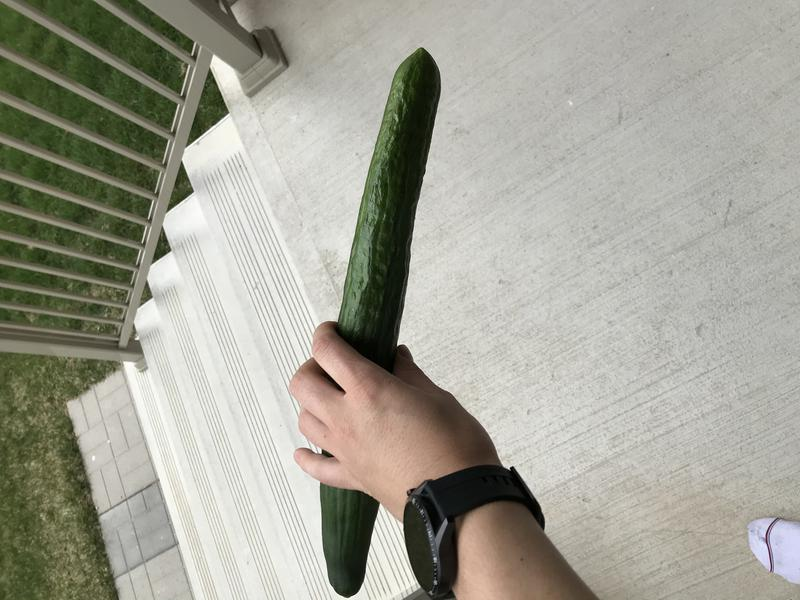cucumber: (304, 35, 455, 600)
